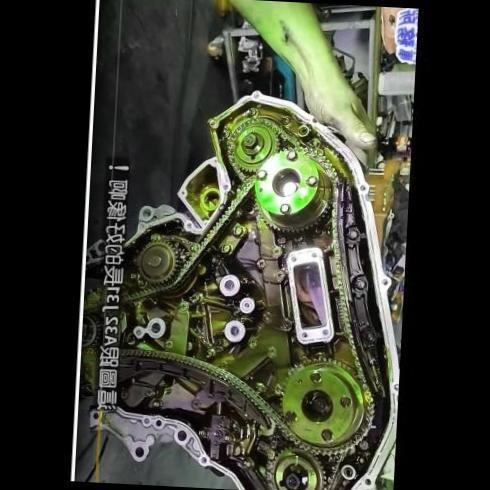hole: (226, 323, 239, 337), (220, 277, 234, 290), (146, 319, 159, 332), (204, 116, 216, 130), (355, 181, 366, 192), (139, 414, 149, 426), (249, 90, 259, 99), (362, 476, 370, 484), (219, 181, 227, 189), (241, 301, 249, 309), (197, 455, 204, 463), (380, 276, 387, 284), (183, 221, 191, 228), (177, 188, 184, 196), (134, 328, 141, 336), (210, 157, 218, 163)
